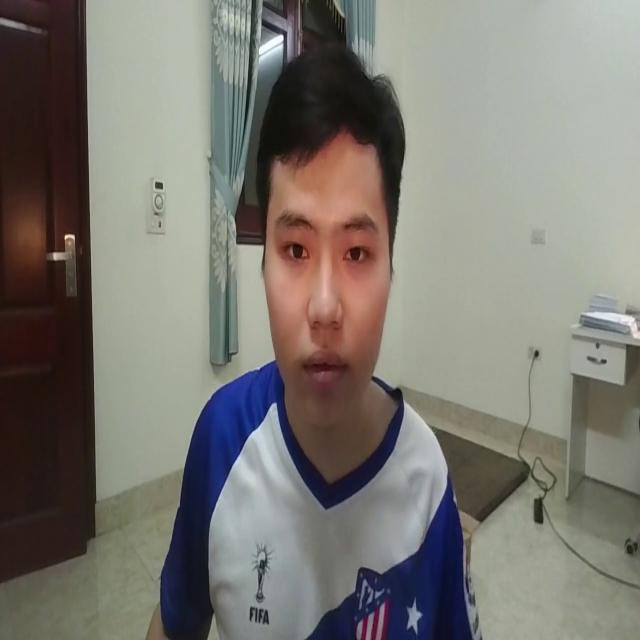student: (134, 26, 487, 640)
